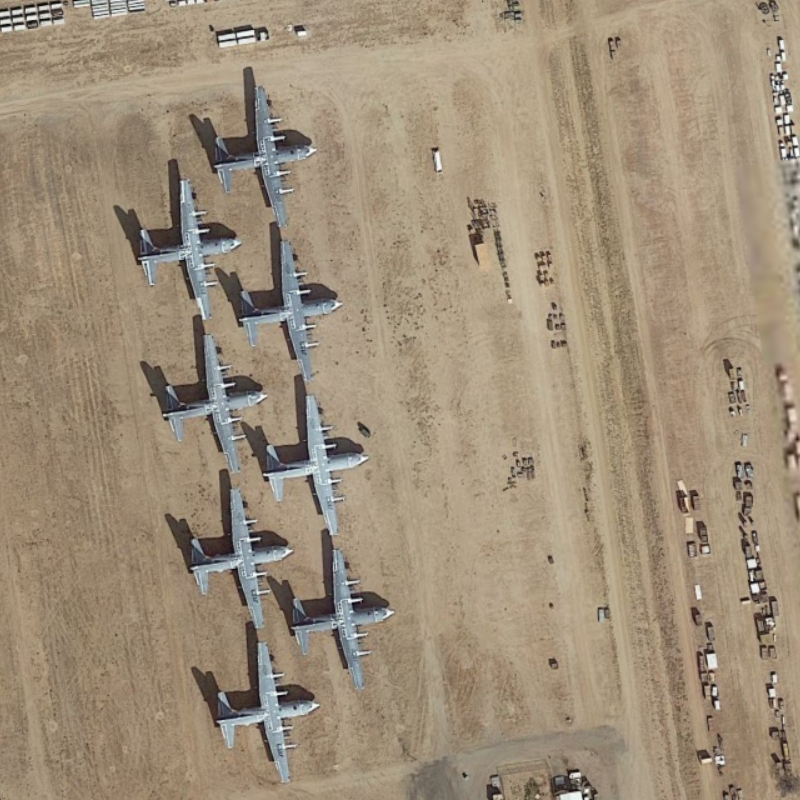A2: (198, 69, 329, 231), (281, 539, 412, 700), (201, 632, 329, 786), (176, 477, 302, 630), (148, 327, 270, 478), (259, 391, 380, 539), (127, 177, 249, 323), (234, 232, 348, 384)
